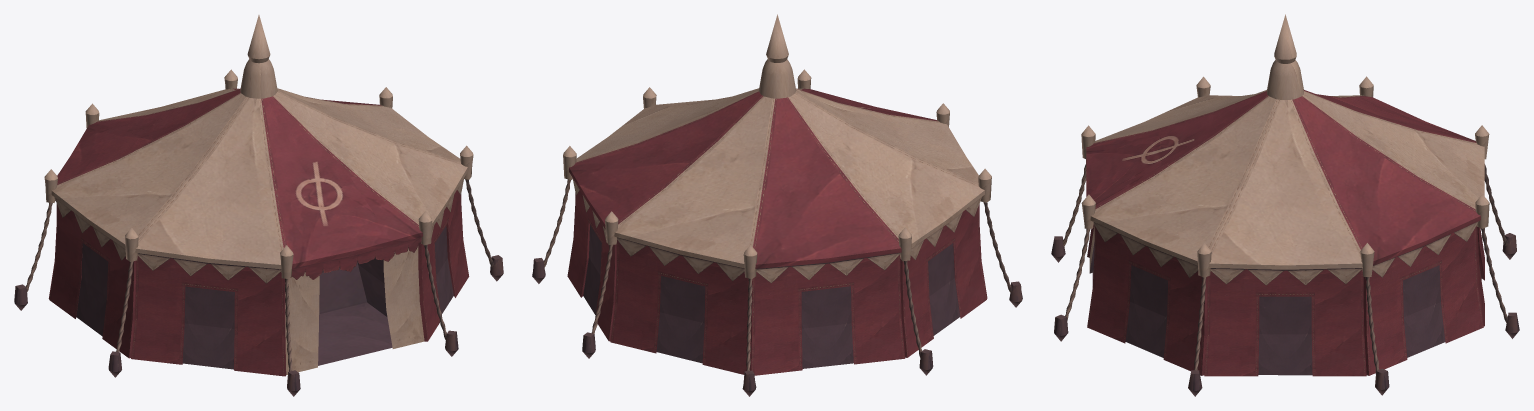
Rendered from Tent_big.FBX.
3 renders of one model, left to right at view 1: azimuth 30°, elevation 25°; view 2: azimuth 150°, elevation 25°; view 3: azimuth 270°, elevation 25°, orthographic.
Visible parts, largest first — view 1: Cone003, Object005; view 2: Cone003, Object005; view 3: Cone003, Object005.
Boxes of the visible parts, x1,y1,x2,y2 form: Cone003: [14, 15, 503, 396]; Object005: [54, 178, 464, 283]; Cone003: [532, 14, 1022, 396]; Object005: [572, 178, 981, 283]; Cone003: [1051, 14, 1519, 396]; Object005: [1093, 221, 1478, 285].
Bounding box in the file's own units: 25.86 × 17.48 × 25.86.
Materials: 2 (2 with a texture image).
